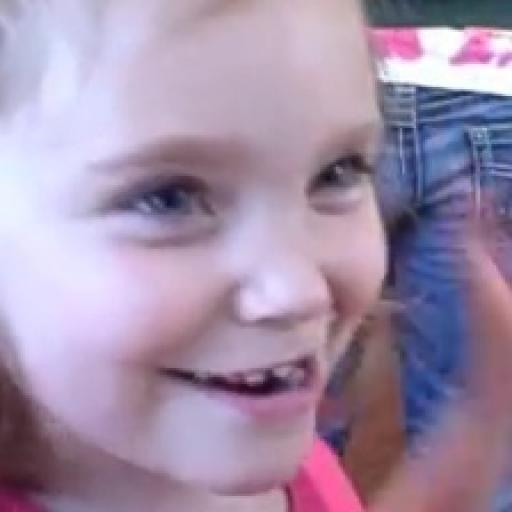Autism: (0, 0, 438, 512)
